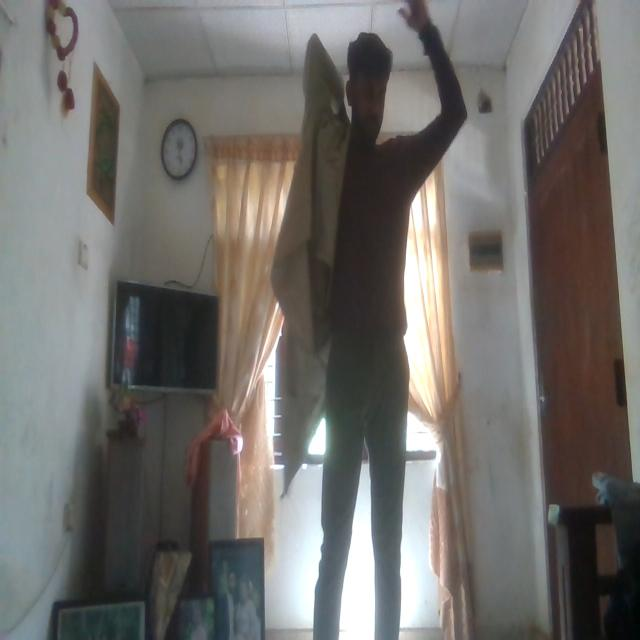Jacket_Wearer: (273, 31, 377, 445)
Person: (299, 0, 468, 640)
